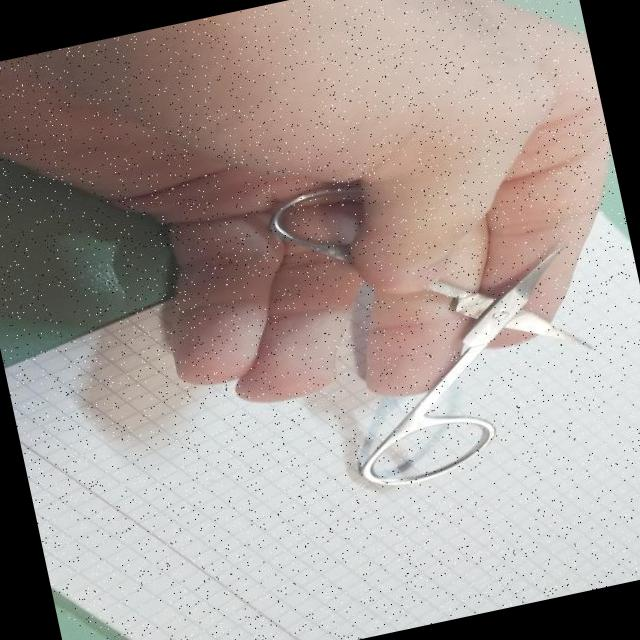scissors: (256, 129, 628, 506)
